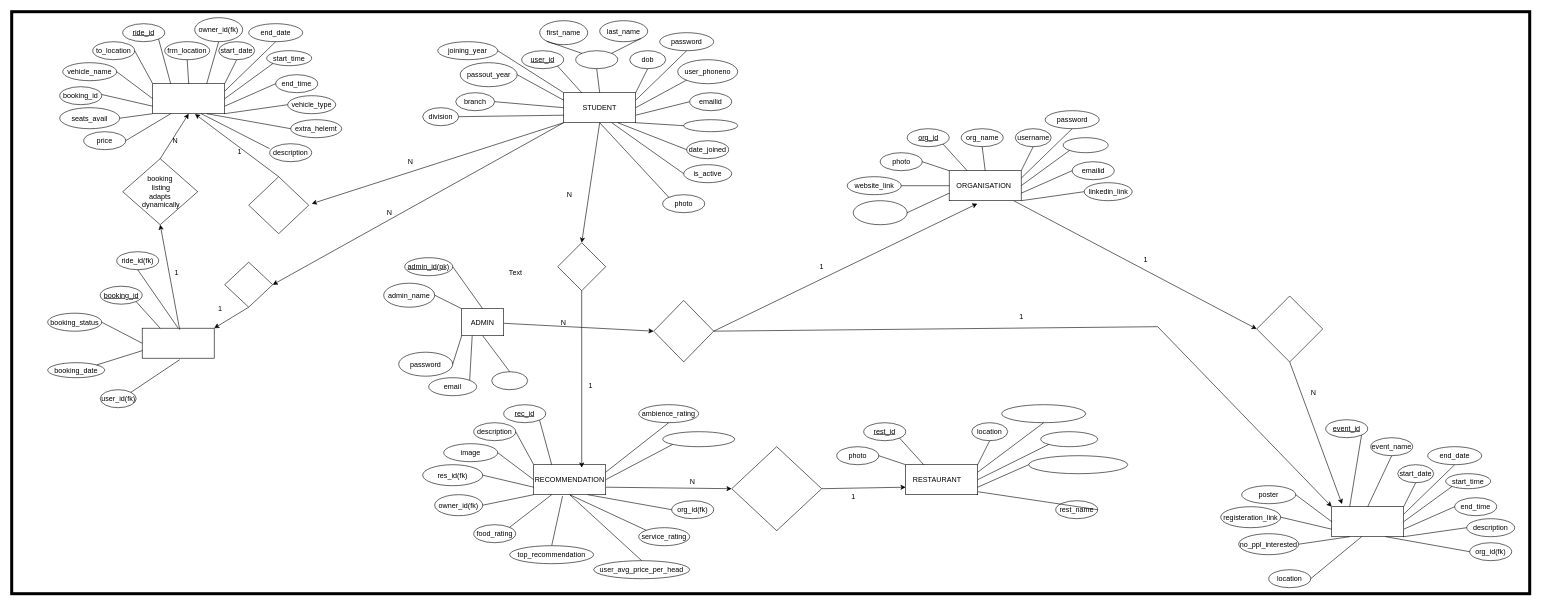
The diagram is 1541 pixels wide and 605 high, and some of its shapes have lost their labels. The shapes that lost their labels are listed below. From the top down, each one's box as (x1, y1, x2, y2) in pixels, then its label:
(575, 50, 618, 69): user_name
(152, 83, 225, 114): RideListing
(683, 119, 738, 132): gender
(1063, 137, 1108, 153): about
(248, 176, 309, 234): Views or Adds ride
(853, 200, 907, 225): instagram_link
(224, 262, 273, 307): Books ride
(557, 242, 606, 291): Adds or Deletes
(142, 328, 214, 358): Ride_Booking
(653, 300, 714, 362): Approves or Disapproves
(1256, 295, 1323, 362): Adds or deletes events
(491, 371, 528, 390): role
(1001, 404, 1086, 423): overall_price_per_head
(662, 431, 735, 447): avg_user_training
(1040, 431, 1098, 447): overall_rating
(1028, 455, 1128, 474): no_of_recommendations
(731, 446, 822, 531): restaurant listing adapts dynamically
(1331, 506, 1404, 537): EVENT_LISTING
